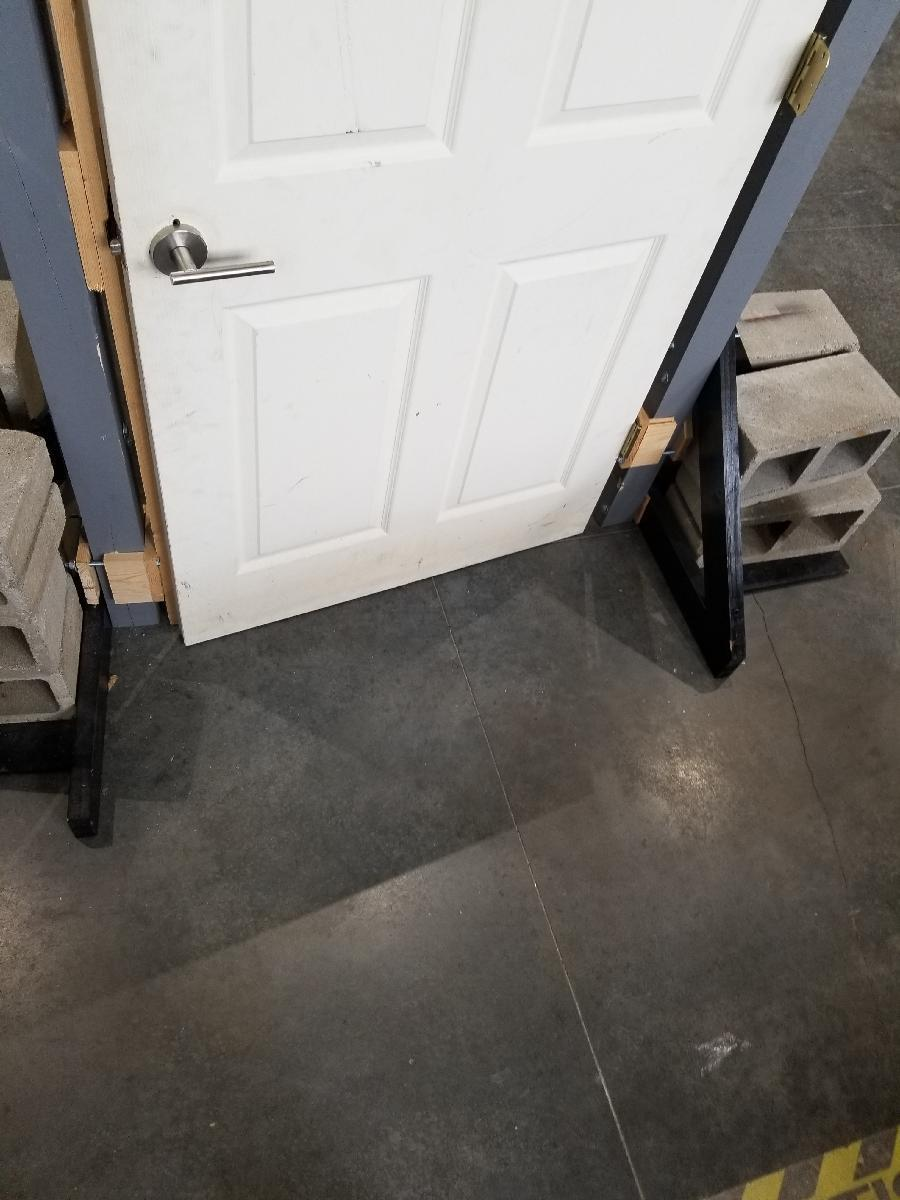door: (100, 0, 745, 650)
handle: (144, 223, 278, 290)
